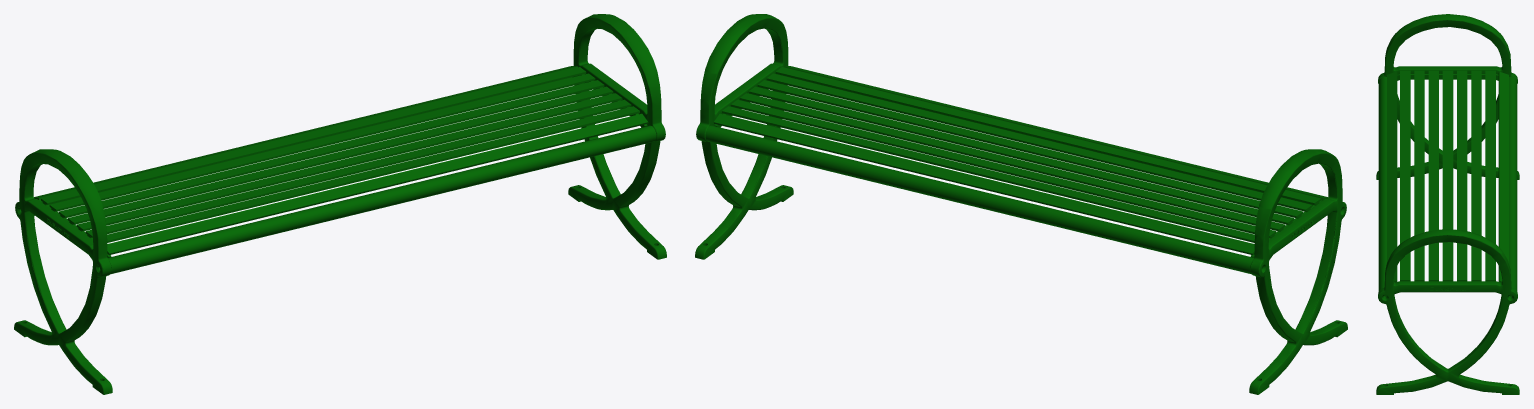
3 renders of one model, left to right at view 1: azimuth 30°, elevation 25°; view 2: azimuth 150°, elevation 25°; view 3: azimuth 270°, elevation 25°, orthographic. The views are drawn at different scales.
Parts seen in each view (by area): view 1: mesh180_mesh180-geometry, mesh1_mesh1-geometry, mesh185_mesh185-geometry; view 2: mesh180_mesh180-geometry, mesh1_mesh1-geometry, mesh185_mesh185-geometry; view 3: mesh180_mesh180-geometry, mesh1_mesh1-geometry, mesh185_mesh185-geometry, mesh182_mesh182-geometry.
Boxes of the visible parts, left/top/right/bottom form: mesh180_mesh180-geometry: left=34, top=66, right=648, bottom=255; mesh1_mesh1-geometry: left=14, top=14, right=666, bottom=394; mesh185_mesh185-geometry: left=34, top=77, right=656, bottom=274; mesh180_mesh180-geometry: left=713, top=66, right=1327, bottom=255; mesh1_mesh1-geometry: left=695, top=14, right=1347, bottom=394; mesh185_mesh185-geometry: left=705, top=77, right=1327, bottom=274; mesh180_mesh180-geometry: left=1387, top=70, right=1508, bottom=282; mesh1_mesh1-geometry: left=1376, top=14, right=1519, bottom=394; mesh185_mesh185-geometry: left=1378, top=76, right=1517, bottom=296; mesh182_mesh182-geometry: left=1397, top=74, right=1498, bottom=80.
Size of the model in its own units: 0.9156 by 0.3142 by 0.2508.
